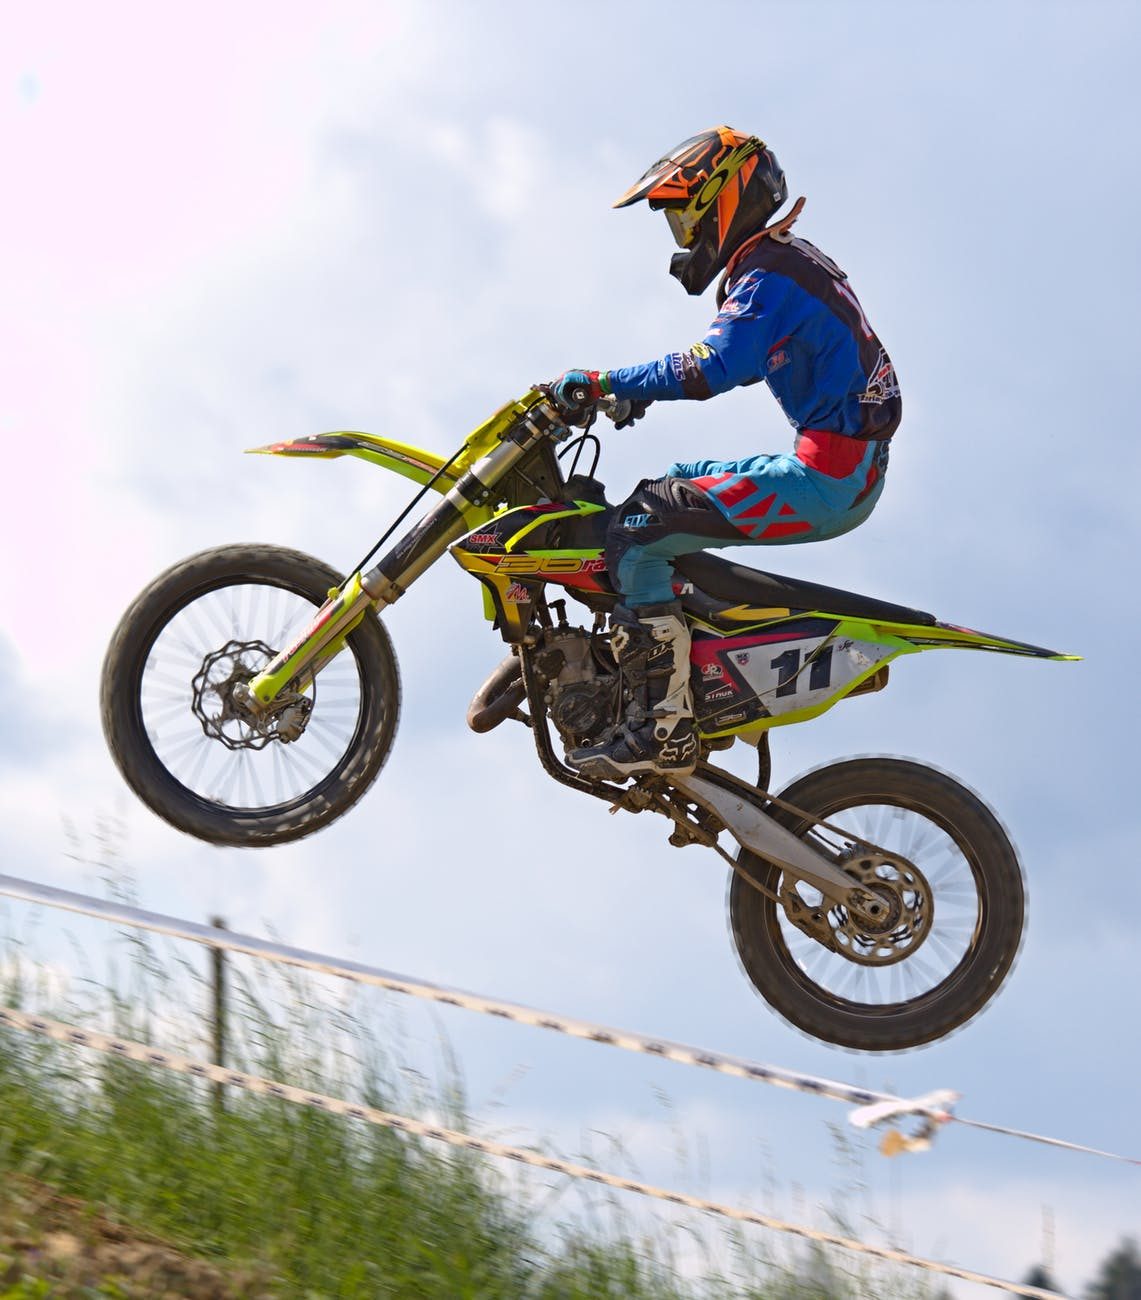helmet: (641, 129, 789, 275)
